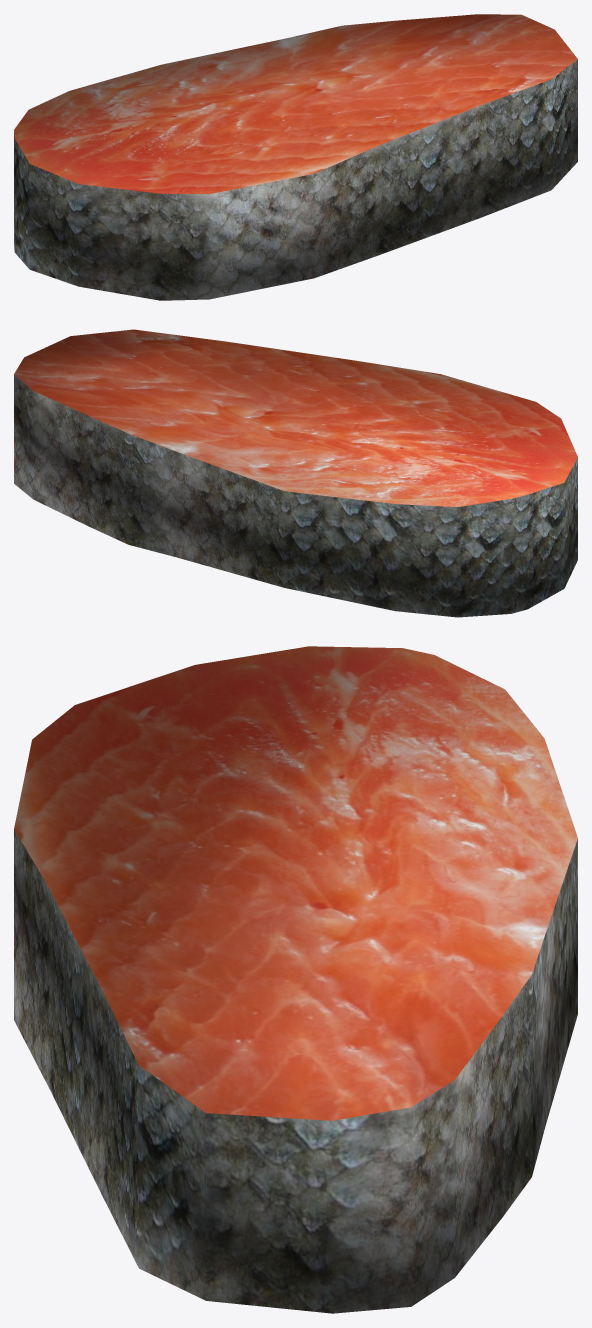
File: Salmon.fbx
3 renders of one model, top to bottom at view 1: azimuth 30°, elevation 25°; view 2: azimuth 150°, elevation 25°; view 3: azimuth 270°, elevation 25°, orthographic. The views are drawn at different scales.
Parts seen in each view (by area): view 1: Cube; view 2: Cube; view 3: Cube.
Part boxes in pixels (x1,y1,x2,y2): Cube: (14, 14, 577, 300); Cube: (14, 329, 577, 617); Cube: (14, 646, 577, 1313).
Bounding box in the file's own units: 200 × 41.16 × 101.
1 material, 1 textured.
